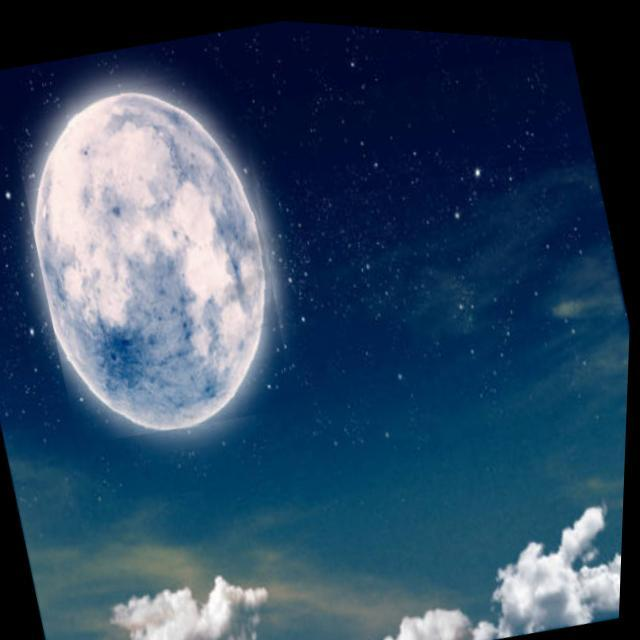moon: (0, 50, 317, 457)
